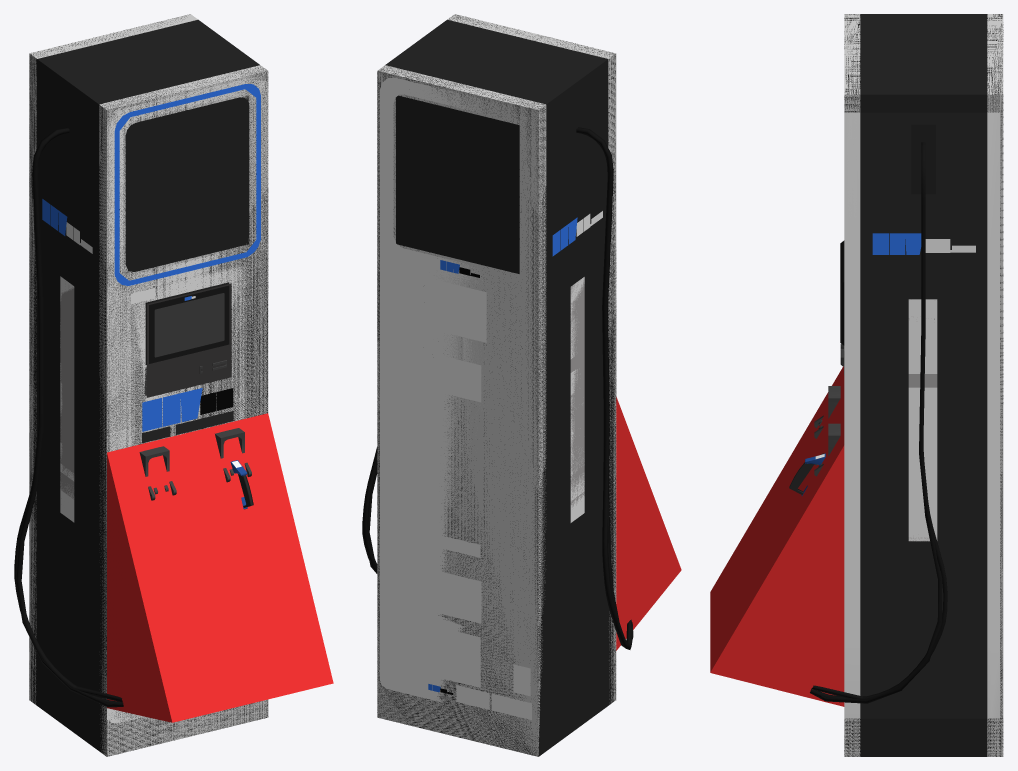
The model's file is s_fuel_charger_car_2020.dae.
The picture shows the model from 3 angles, left to right: view 1: azimuth 30°, elevation 25°; view 2: azimuth 150°, elevation 25°; view 3: azimuth 270°, elevation 25°; orthographic projection. The views are drawn at different scales.
Parts seen in each view (by area): view 1: Colmesh_s_fuel_charger_car_2020-1, s_fuel_charger_car_2020_L60, s_fuel_charger_car_2020_L20, s_fuel_charger_car_2020_L800, s_fuel_charger_car_2020_L200; view 2: s_fuel_charger_car_2020_L60, s_fuel_charger_car_2020_L800, s_fuel_charger_car_2020_L20, Colmesh_s_fuel_charger_car_2020-1, s_fuel_charger_car_2020_L200; view 3: s_fuel_charger_car_2020_L800, Colmesh_s_fuel_charger_car_2020-1, s_fuel_charger_car_2020_L60, s_fuel_charger_car_2020_L200, s_fuel_charger_car_2020_L20.
Boxes of the visible parts, <box> form: Colmesh_s_fuel_charger_car_2020-1: <box>107,71,333,756</box>; s_fuel_charger_car_2020_L60: <box>29,14,268,756</box>; s_fuel_charger_car_2020_L20: <box>29,14,267,756</box>; s_fuel_charger_car_2020_L800: <box>14,78,265,723</box>; s_fuel_charger_car_2020_L200: <box>16,75,268,721</box>; s_fuel_charger_car_2020_L60: <box>377,14,632,756</box>; s_fuel_charger_car_2020_L800: <box>362,78,632,719</box>; s_fuel_charger_car_2020_L20: <box>378,14,616,756</box>; Colmesh_s_fuel_charger_car_2020-1: <box>377,71,681,756</box>; s_fuel_charger_car_2020_L200: <box>368,128,633,649</box>; s_fuel_charger_car_2020_L800: <box>790,112,999,718</box>; Colmesh_s_fuel_charger_car_2020-1: <box>710,366,844,706</box>; s_fuel_charger_car_2020_L60: <box>811,14,1003,756</box>; s_fuel_charger_car_2020_L200: <box>789,112,983,718</box>; s_fuel_charger_car_2020_L20: <box>844,14,1003,756</box>.
Size of the model in its own units: 0.923 by 0.9241 by 2.3.
